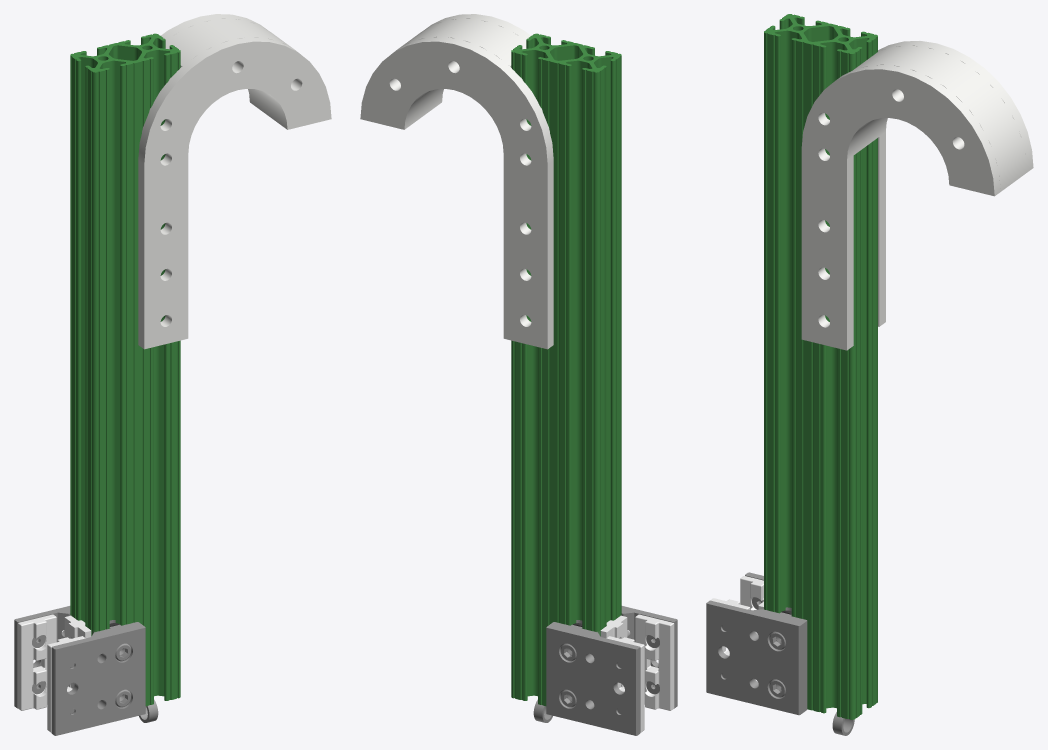
3 views of the same model, side by side, from view 1: azimuth 30°, elevation 25°; view 2: azimuth 150°, elevation 25°; view 3: azimuth 330°, elevation 25° (orthographic). The views are drawn at different scales.
Visible parts, largest first — view 1: (01) P - Moving Stage v6:1, (09) P - Hook v7:1, 8020-6730_676009:2, (010) P - Savge Print Hook v3:1, 8020-6730_670509:1, 8020-6730_676009:1, (09) P - Hook v7:2, 8020-6730_670509:2; view 2: (01) P - Moving Stage v6:1, (09) P - Hook v7:2, 8020-6730_676009:1, (010) P - Savge Print Hook v3:1, 8020-6730_670509:2, 8020-6730_676009:2, (09) P - Hook v7:1, 8020-6730_670509:1; view 3: (01) P - Moving Stage v6:1, (09) P - Hook v7:1, 8020-6730_676009:2, (010) P - Savge Print Hook v3:1, (09) P - Hook v7:2, 8020-6730_670509:1.
Part boxes in pixels (left/top/right/bottom): (01) P - Moving Stage v6:1: left=70, top=33, right=180, bottom=706; (09) P - Hook v7:1: left=138, top=37, right=331, bottom=349; 8020-6730_676009:2: left=51, top=622, right=145, bottom=735; (010) P - Savge Print Hook v3:1: left=165, top=18, right=295, bottom=124; 8020-6730_670509:1: left=17, top=614, right=56, bottom=710; 8020-6730_676009:1: left=14, top=606, right=70, bottom=708; (09) P - Hook v7:2: left=161, top=14, right=266, bottom=106; 8020-6730_670509:2: left=47, top=636, right=85, bottom=732; (01) P - Moving Stage v6:1: left=511, top=33, right=621, bottom=706; (09) P - Hook v7:2: left=360, top=37, right=553, bottom=349; 8020-6730_676009:1: left=546, top=622, right=640, bottom=735; (010) P - Savge Print Hook v3:1: left=396, top=18, right=526, bottom=124; 8020-6730_670509:2: left=635, top=614, right=674, bottom=710; 8020-6730_676009:2: left=621, top=606, right=677, bottom=708; (09) P - Hook v7:1: left=425, top=14, right=530, bottom=106; 8020-6730_670509:1: left=606, top=636, right=644, bottom=732; (01) P - Moving Stage v6:1: left=764, top=14, right=877, bottom=719; (09) P - Hook v7:1: left=801, top=64, right=1000, bottom=350; 8020-6730_676009:2: left=706, top=600, right=807, bottom=715; (010) P - Savge Print Hook v3:1: left=853, top=45, right=1026, bottom=191; (09) P - Hook v7:2: left=878, top=41, right=1033, bottom=326; 8020-6730_670509:1: left=740, top=576, right=763, bottom=633.
Size of the model in its own units: 0.1606 by 0.3708 by 0.0412.
